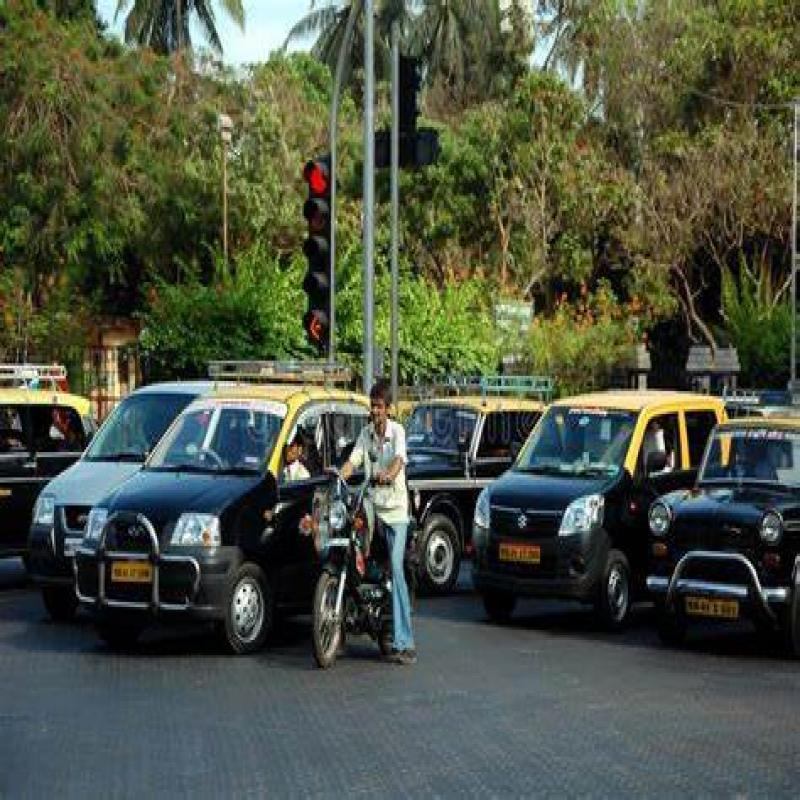car: (141, 411, 338, 610), (650, 437, 789, 642), (502, 384, 659, 557), (384, 398, 513, 530)
